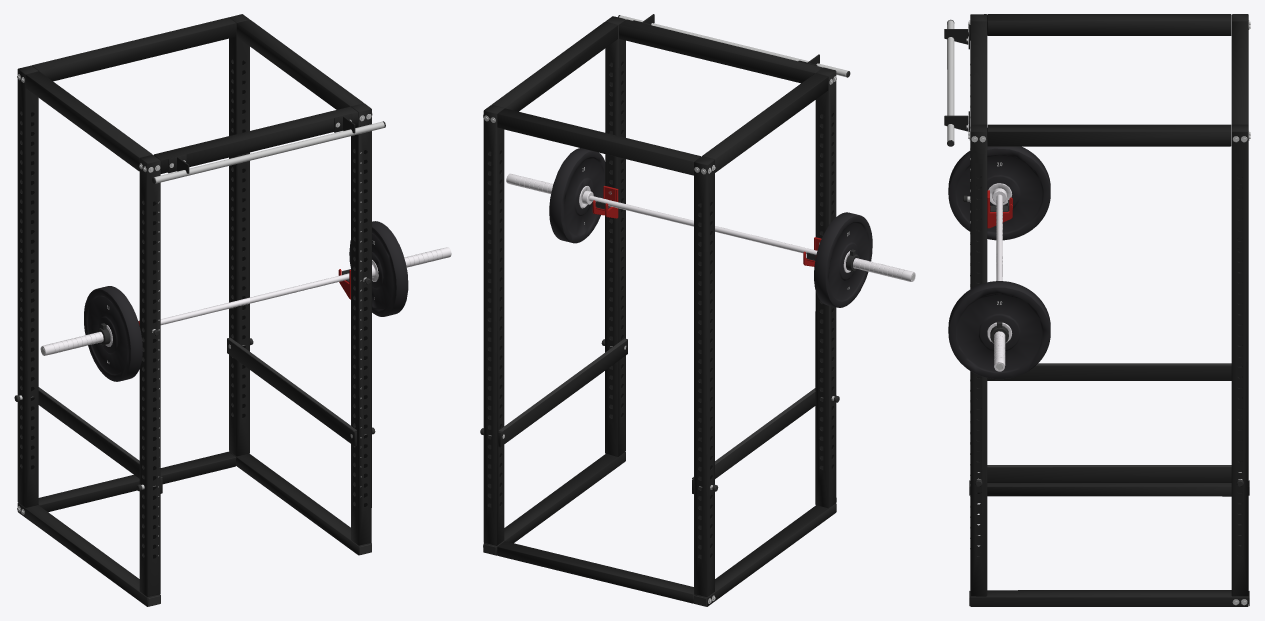
Rendered from fitness_squat_rack.glb.
The picture shows the model from 3 angles, left to right: view 1: azimuth 30°, elevation 25°; view 2: azimuth 150°, elevation 25°; view 3: azimuth 270°, elevation 25°; orthographic projection. The views are drawn at different scales.
Visible parts, largest first — view 1: power-rack-barbell-plates; view 2: power-rack-barbell-plates; view 3: power-rack-barbell-plates.
Boxes of the visible parts, x1,y1,x2,y2 form: power-rack-barbell-plates: (14, 14, 451, 606); power-rack-barbell-plates: (480, 14, 915, 606); power-rack-barbell-plates: (944, 14, 1250, 606).
Size of the model in its own units: 2.2 by 2.3 by 1.34.
1 material, 1 textured.
